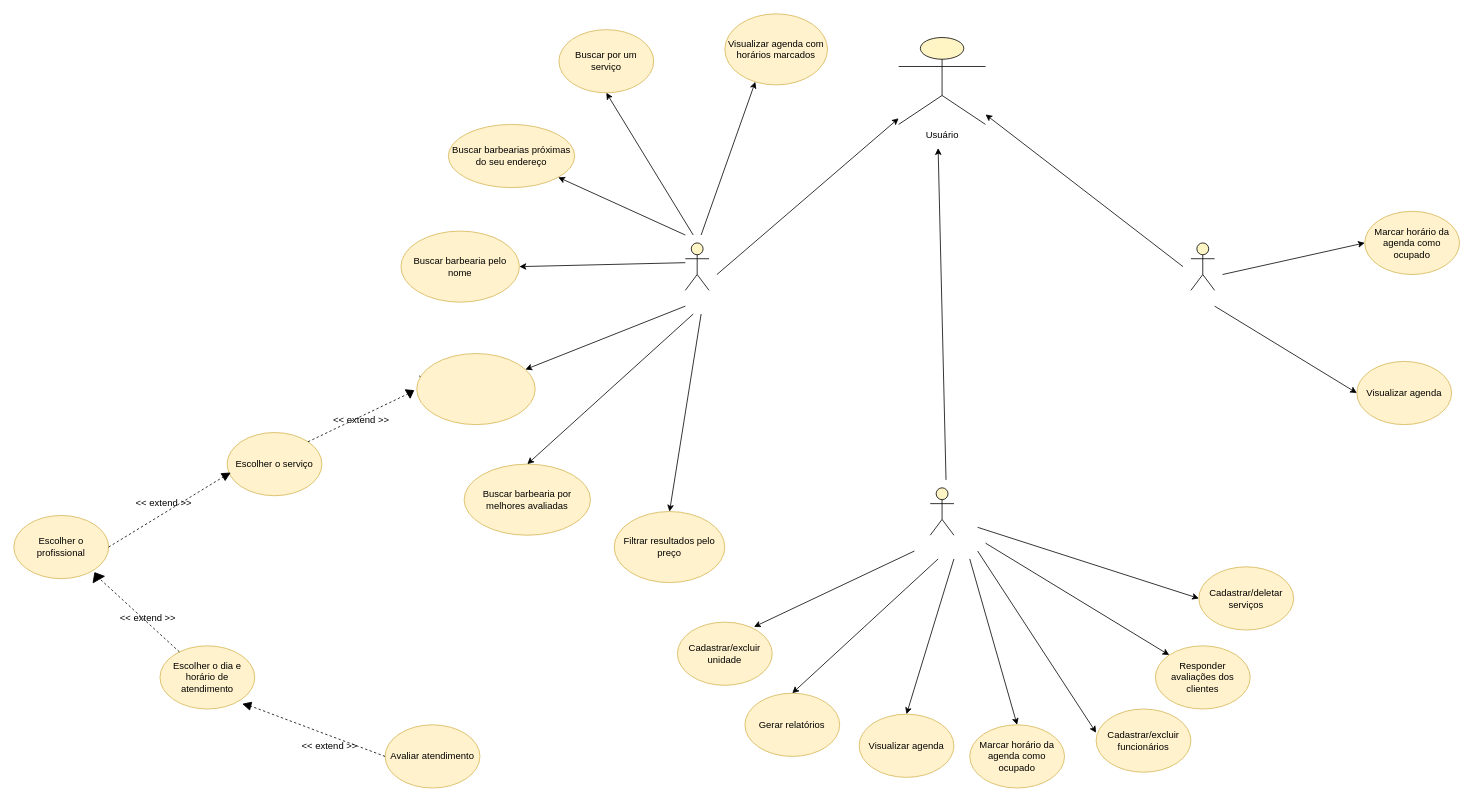
Some shapes in this 1473 by 802 pixel diagram are drawn without their labels. Here are the shapes that lost their labels. From the top down, the box of each, then its label:
(685, 242, 709, 290): Cliente
(1190, 242, 1215, 290): Funcionário
(416, 353, 535, 425): Escolher barbearia para ser atendido
(929, 487, 954, 535): Administrador
